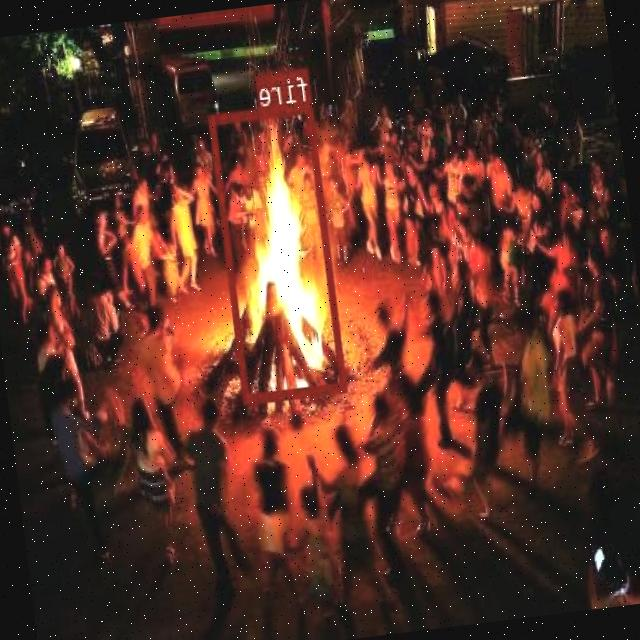fire: (210, 101, 349, 402)
